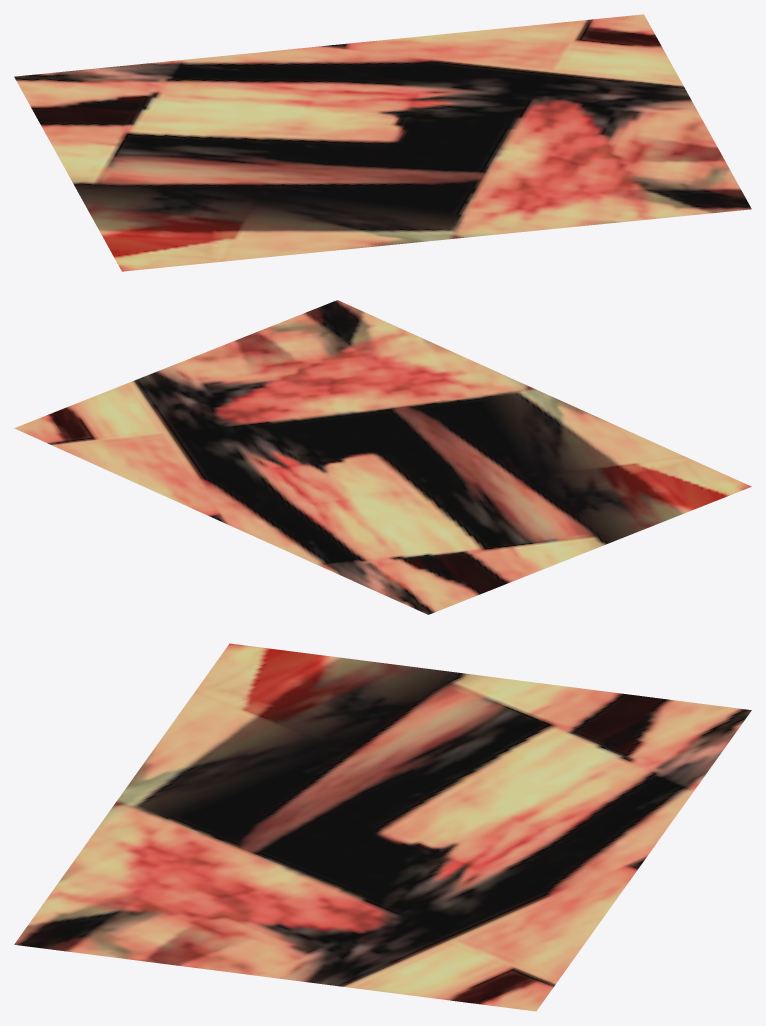
Rendered from Island_2_Block_Floor.gltf.
3 renders of one model, top to bottom at view 1: azimuth 30°, elevation 25°; view 2: azimuth 150°, elevation 25°; view 3: azimuth 270°, elevation 25°, orthographic. The views are drawn at different scales.
Parts seen in each view (by area): view 1: Island_2_Block_Floor; view 2: Island_2_Block_Floor; view 3: Island_2_Block_Floor.
Boxes of the visible parts, x1,y1,x2,y2 form: Island_2_Block_Floor: (14,14,751,271); Island_2_Block_Floor: (14,300,751,614); Island_2_Block_Floor: (14,643,751,1011).
Size of the model in its own units: 9.5 by 0 by 8.05.
1 material, 1 textured.
